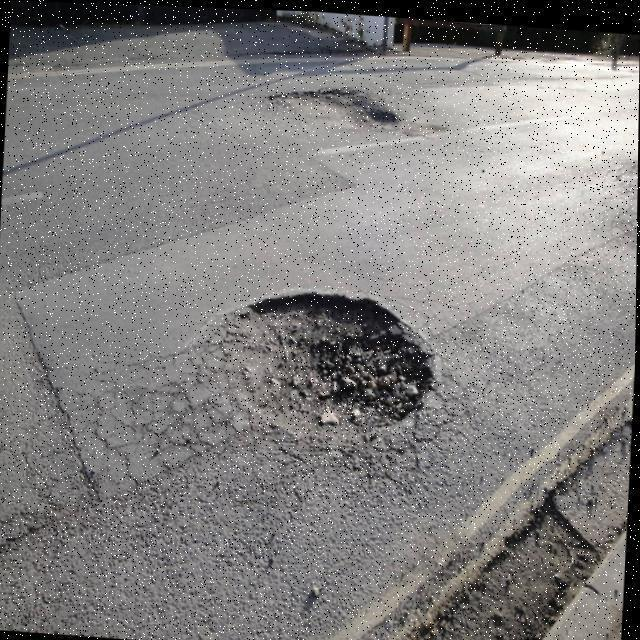Pothole: (219, 294, 434, 444), (269, 89, 400, 126)
